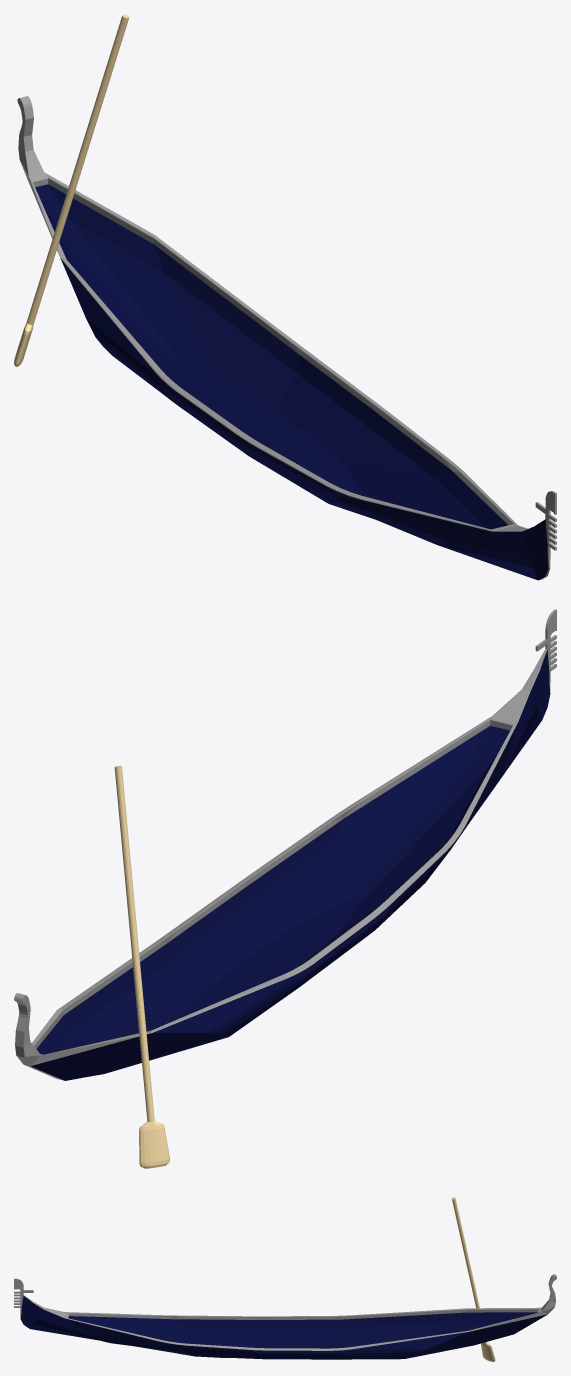
File: gondola.fbx
3 views of the same model, one above another, from view 1: azimuth 30°, elevation 25°; view 2: azimuth 150°, elevation 25°; view 3: azimuth 270°, elevation 25° (orthographic). The views are drawn at different scales.
Parts seen in each view (by area): view 1: Cylinder; view 2: Cylinder; view 3: Cylinder.
Part boxes in pixels (x1,y1,x2,y2): Cylinder: (14, 14, 556, 580); Cylinder: (14, 609, 556, 1168); Cylinder: (14, 1197, 556, 1361).
Bounding box in the file's own units: 110 × 250 × 681.
